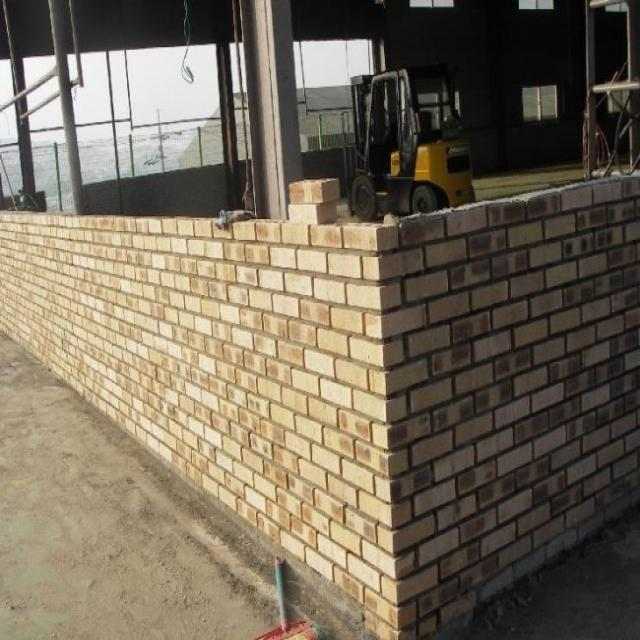brick: (289, 178, 340, 203), (288, 204, 338, 226)
bricks: (0, 173, 640, 640)
